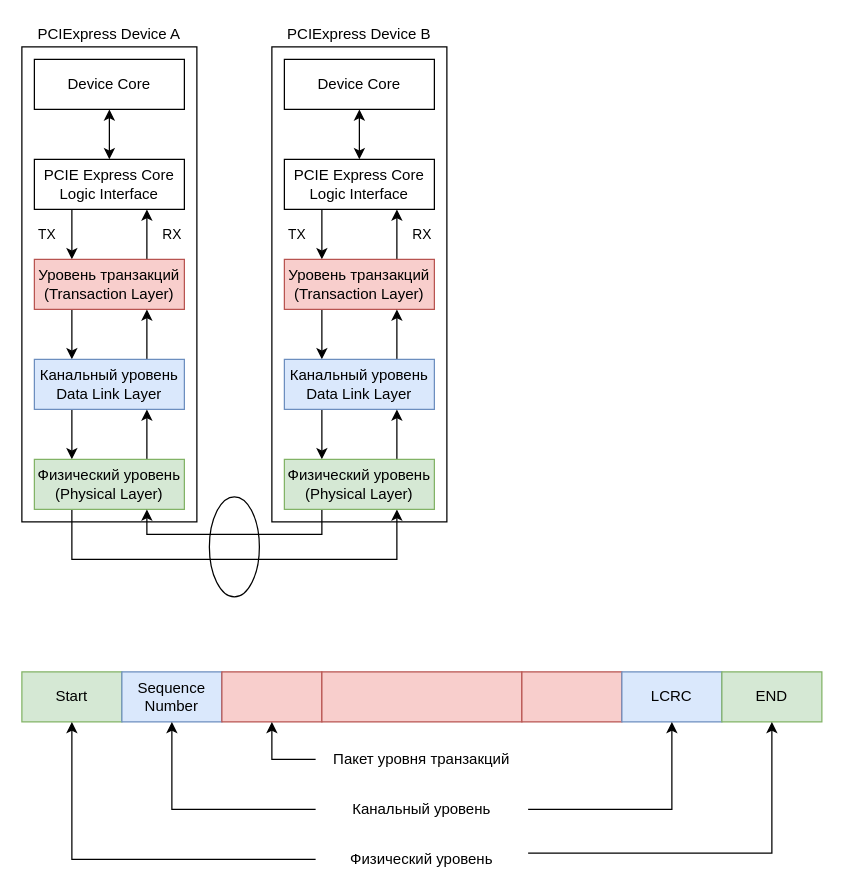
Some shapes in this 844 by 893 pixel diagram are drawn without their labels. Here are the shapes that lost their labels. From the top down, the box of each, then its label:
(208, 496, 259, 597): Link
(221, 671, 322, 722): Header
(321, 671, 522, 722): Data
(521, 671, 622, 722): ECRC
